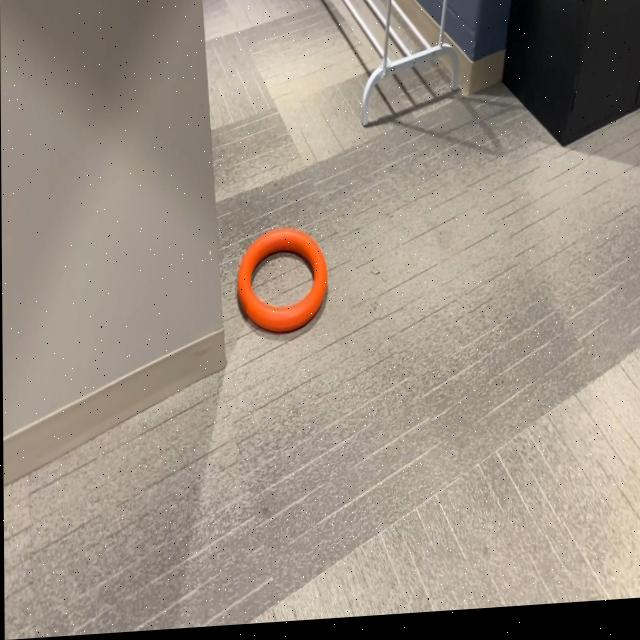note: (236, 226, 328, 342)
